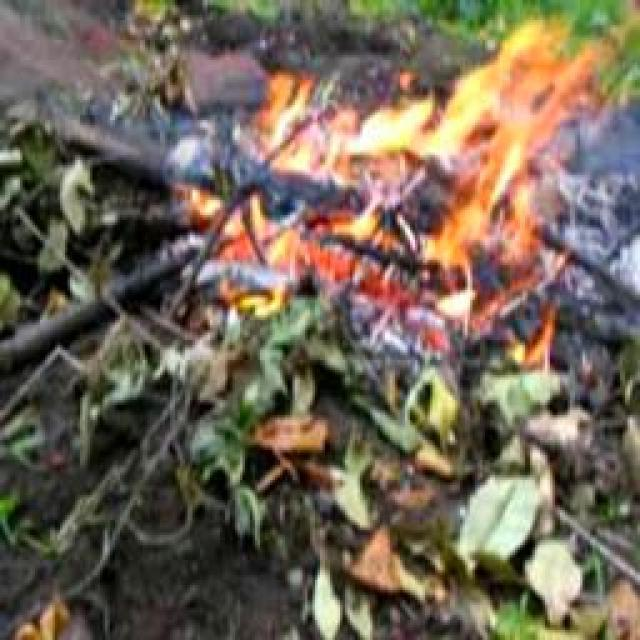Fire: (187, 20, 596, 304)
